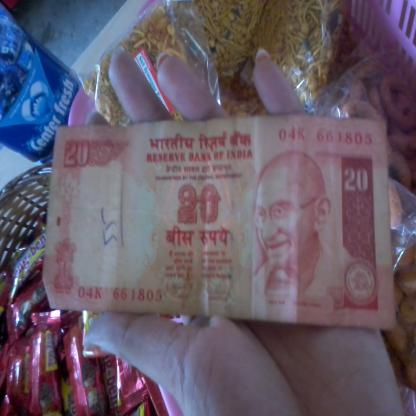Old20Front: (42, 113, 398, 331)
